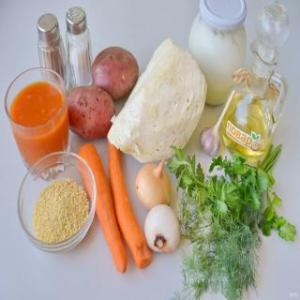cabbage: (107, 36, 208, 163)
carrot: (74, 144, 132, 278), (102, 141, 152, 273)
garlic: (200, 120, 222, 158)
onion: (135, 152, 175, 212), (142, 202, 182, 260)
potato: (61, 84, 121, 144), (90, 42, 142, 102)
